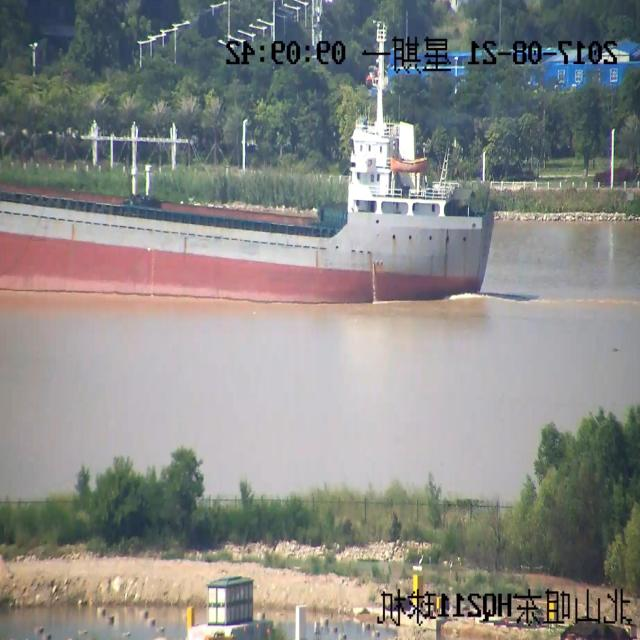cargoship: (0, 77, 481, 324)
